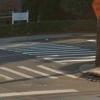Crosswalk: (5, 36, 87, 94)
